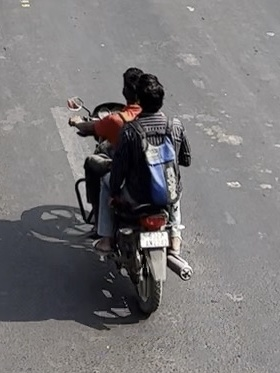BikeWithRider: (62, 62, 199, 318)
NoHelmet: (131, 70, 170, 117), (117, 63, 148, 105)
